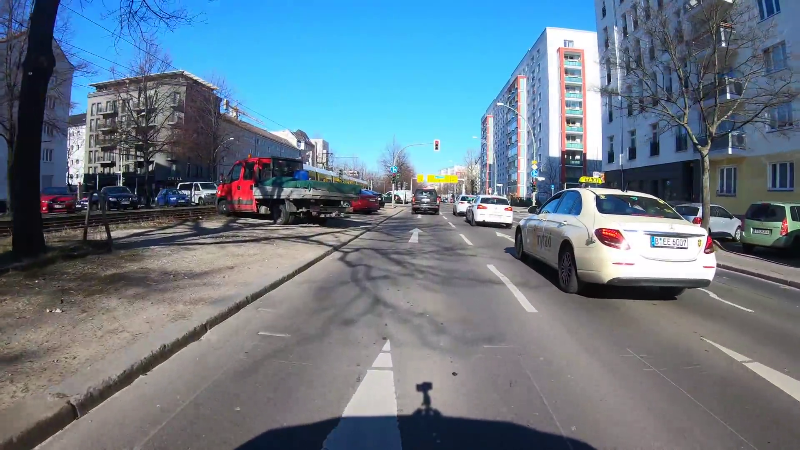Plate: (647, 233, 692, 251)
